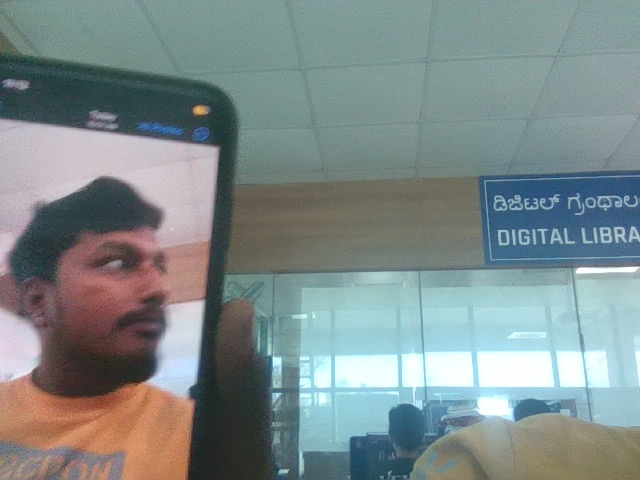fake: (41, 145, 206, 379)
